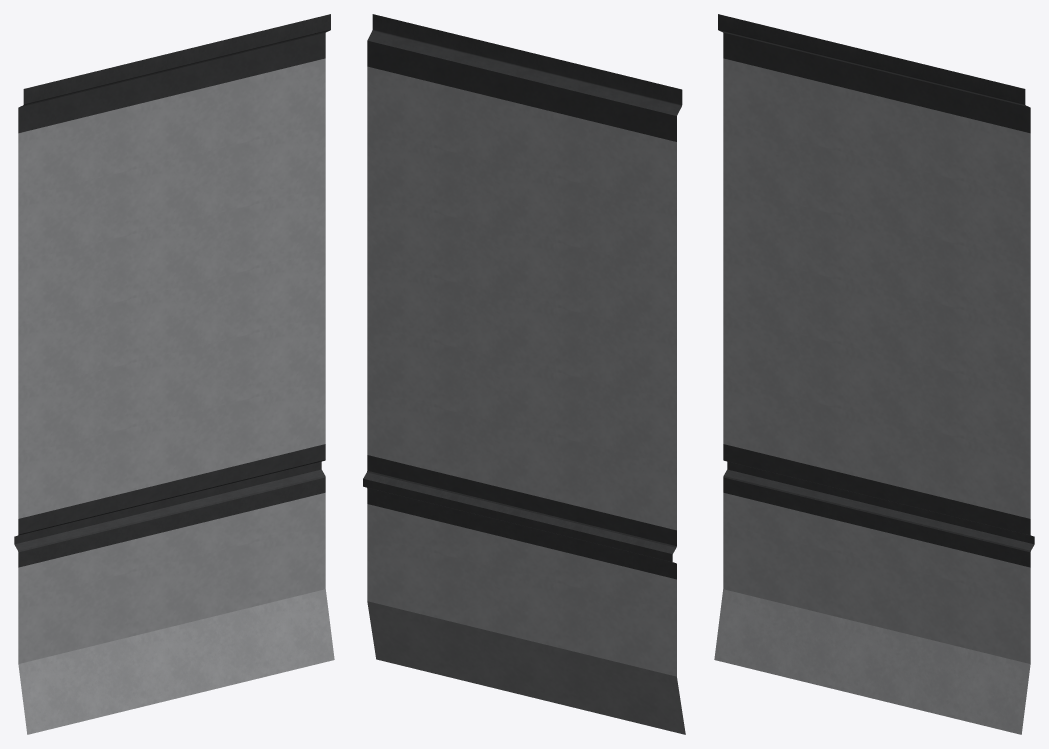
The model's file is Wall_Tiled Texture Test.fbx.
3 views of the same model, side by side, from view 1: azimuth 30°, elevation 25°; view 2: azimuth 150°, elevation 25°; view 3: azimuth 330°, elevation 25° (orthographic).
Parts seen in each view (by area): view 1: Wall_Straight_10x20_v3; view 2: Wall_Straight_10x20_v3; view 3: Wall_Straight_10x20_v3.
Part boxes in pixels (bbox=[...]): Wall_Straight_10x20_v3: bbox=[14, 14, 334, 734]; Wall_Straight_10x20_v3: bbox=[363, 14, 685, 734]; Wall_Straight_10x20_v3: bbox=[714, 14, 1034, 734].
Bounding box in the file's own units: 1000 × 2000 × 73.02.
